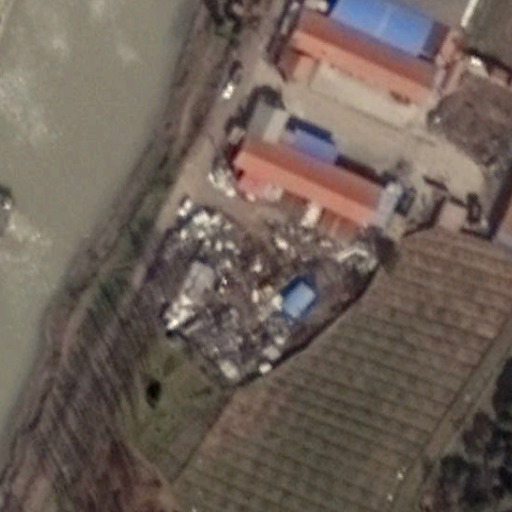msw: (163, 196, 384, 383)
